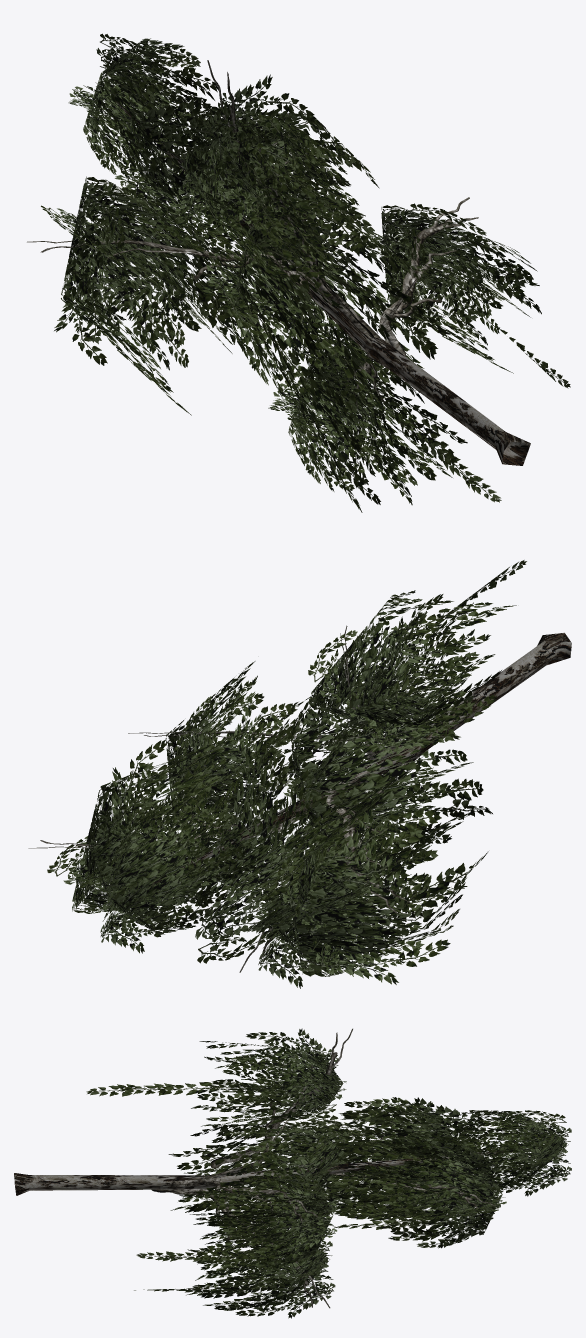
The model's file is MEP_Birch_01_g.fbx.
The picture shows the model from 3 angles, top to bottom: view 1: azimuth 30°, elevation 25°; view 2: azimuth 150°, elevation 25°; view 3: azimuth 270°, elevation 25°; orthographic projection. The views are drawn at different scales.
Parts seen in each view (by area): view 1: MEP_Birch_01_g, MEP_Birch_Bark_01_g; view 2: MEP_Birch_01_g, MEP_Birch_Bark_01_g; view 3: MEP_Birch_01_g, MEP_Birch_Bark_01_g.
Part boxes in pixels (x1,y1,x2,y2): MEP_Birch_01_g: [27, 33, 570, 512]; MEP_Birch_Bark_01_g: [95, 82, 530, 465]; MEP_Birch_01_g: [28, 560, 526, 988]; MEP_Birch_Bark_01_g: [120, 632, 571, 900]; MEP_Birch_01_g: [86, 1028, 571, 1318]; MEP_Birch_Bark_01_g: [14, 1145, 567, 1195].
Bounding box in the file's own units: 7 × 7.5 × 13.65.
